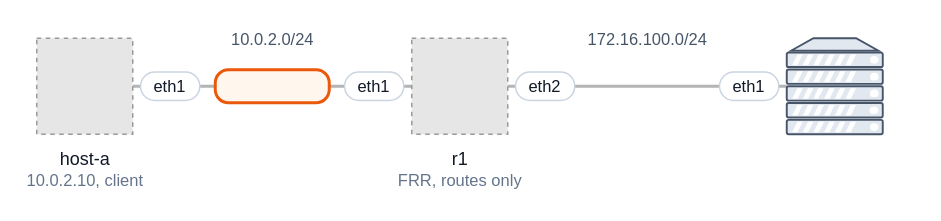
Some shapes in this 941 by 221 pixel diagram are drawn without their labels. Grey dashed boxes stand in for pictures. Here are the shapes that lost their labels. From the top down, the centre of each, then its label:
At pixel 271 86: "capture".
At pixel 834 85: "host-b 172.16.100.20, server".
